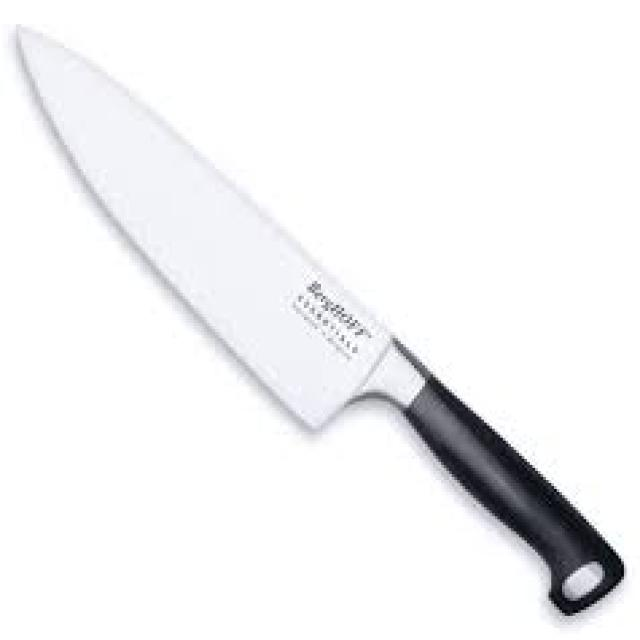knife: (11, 15, 631, 628)
